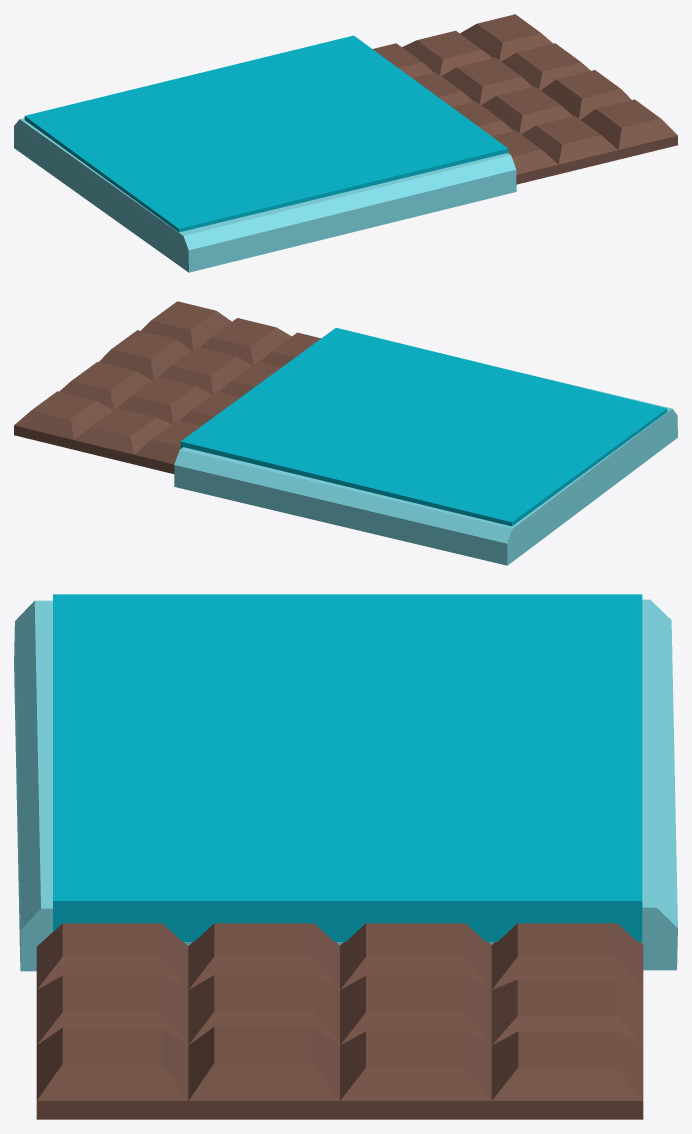
The model's file is chocolate_bar.fbx.
3 renders of one model, top to bottom at view 1: azimuth 30°, elevation 25°; view 2: azimuth 150°, elevation 25°; view 3: azimuth 270°, elevation 25°, orthographic. The views are drawn at different scales.
Parts seen in each view (by area): view 1: mesh_1739216343, mesh_1093942527, mesh_190145640; view 2: mesh_1739216343, mesh_1093942527, mesh_190145640; view 3: mesh_1739216343, mesh_1093942527, mesh_190145640.
Boxes of the visible parts, bbox=[...] form: mesh_1739216343: bbox=[24, 35, 508, 232]; mesh_1093942527: bbox=[373, 14, 677, 184]; mesh_190145640: bbox=[14, 118, 516, 272]; mesh_1739216343: bbox=[180, 327, 667, 526]; mesh_1093942527: bbox=[14, 301, 320, 473]; mesh_190145640: bbox=[174, 372, 677, 565]; mesh_1739216343: bbox=[53, 594, 642, 941]; mesh_1093942527: bbox=[36, 923, 643, 1119]; mesh_190145640: bbox=[14, 599, 677, 971].
Size of the model in its own units: 48.36 by 3.51 by 29.29.
